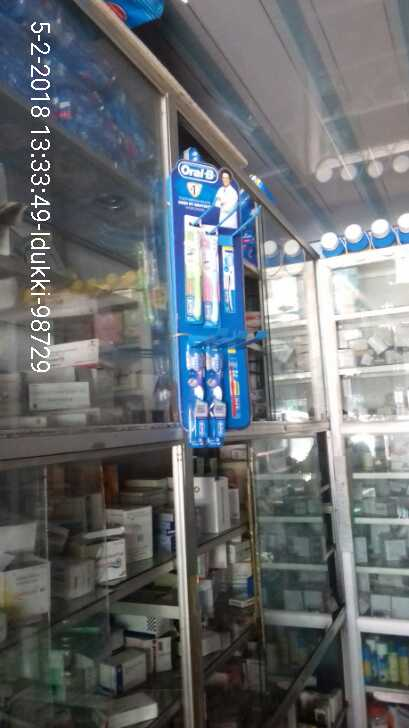oralb: (186, 218, 203, 327), (205, 346, 224, 441), (186, 343, 203, 441), (223, 247, 239, 319)
